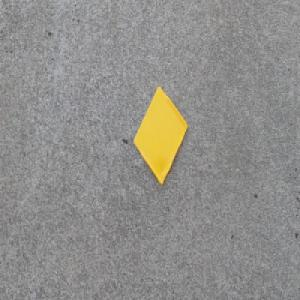PlasticPart: (132, 86, 187, 186)
